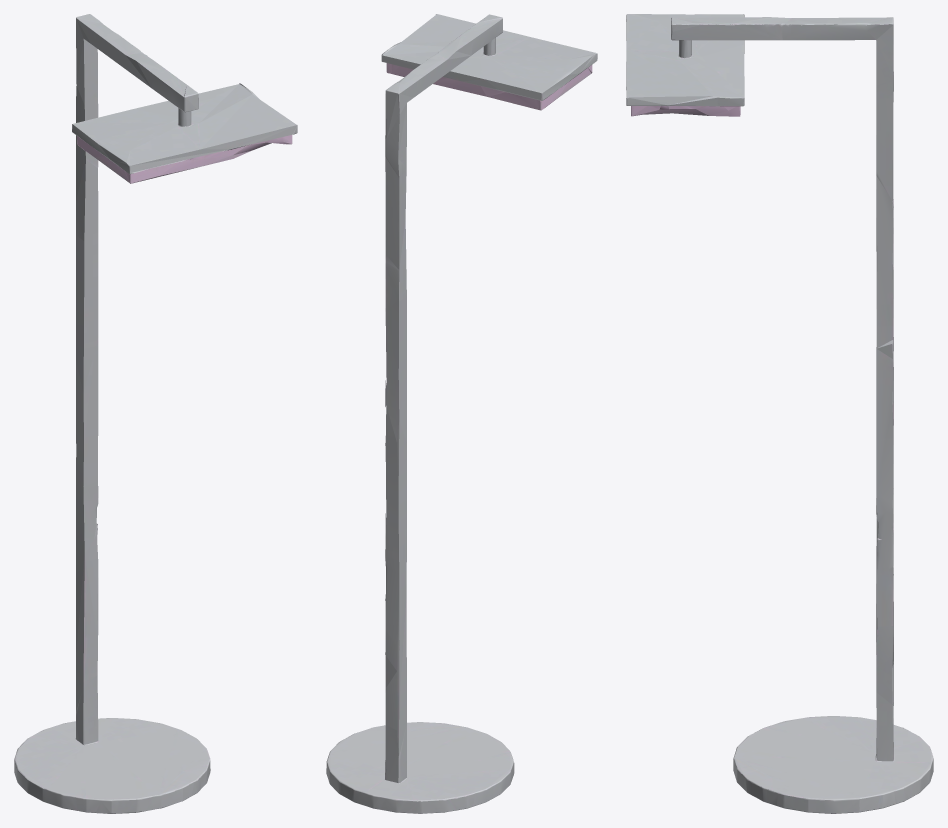
The model's file is growlight_stand.glb.
3 renders of one model, left to right at view 1: azimuth 30°, elevation 25°; view 2: azimuth 150°, elevation 25°; view 3: azimuth 270°, elevation 25°, orthographic. The views are drawn at different scales.
Bounding box in the file's own units: 0.4594 × 1.9 × 0.7055.
Materials: 1 (1 with a texture image).
